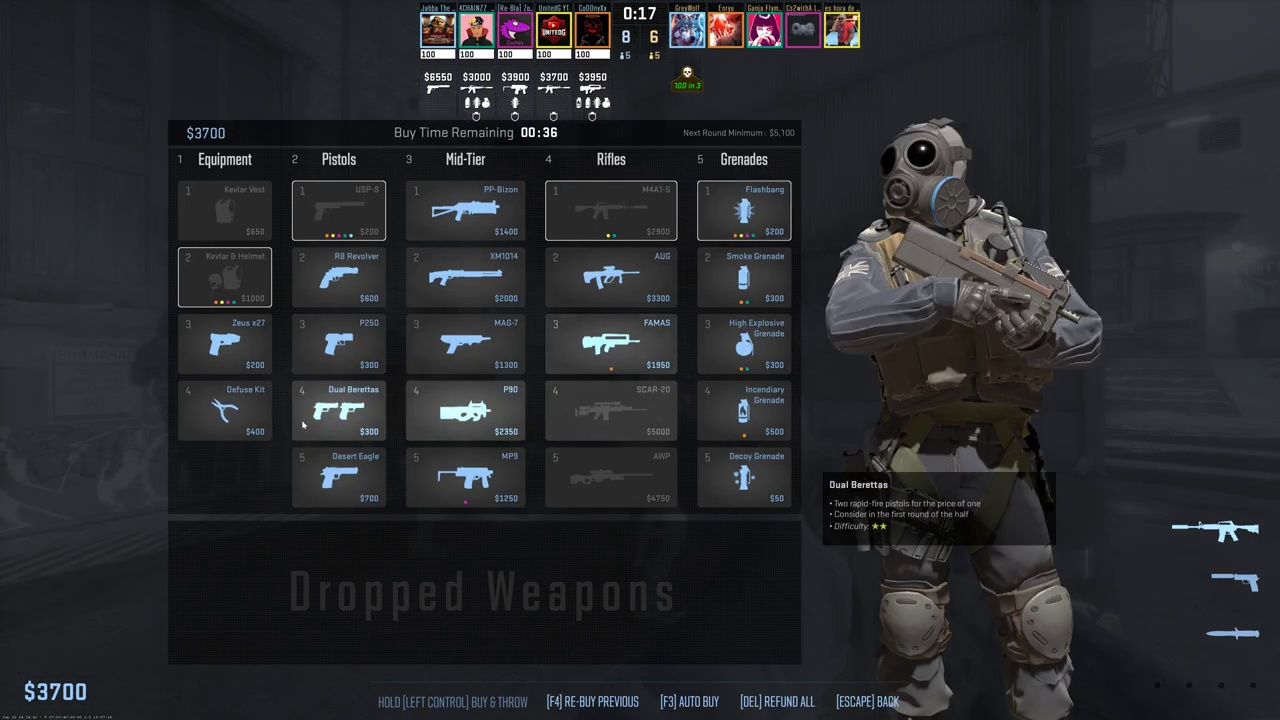CT: (857, 125, 1077, 719)
